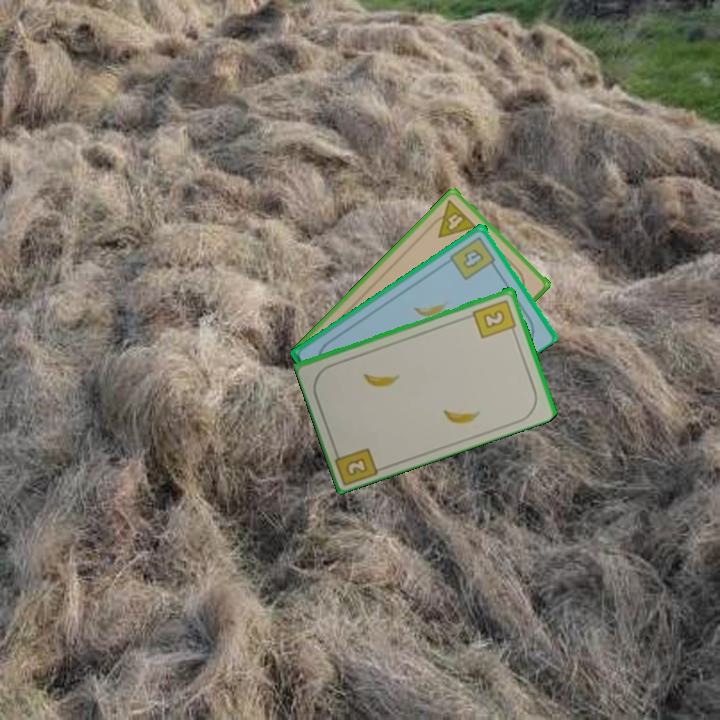2b: (330, 443, 382, 486), (470, 296, 519, 341)
4b: (447, 232, 500, 282)
4p: (425, 196, 480, 241)
